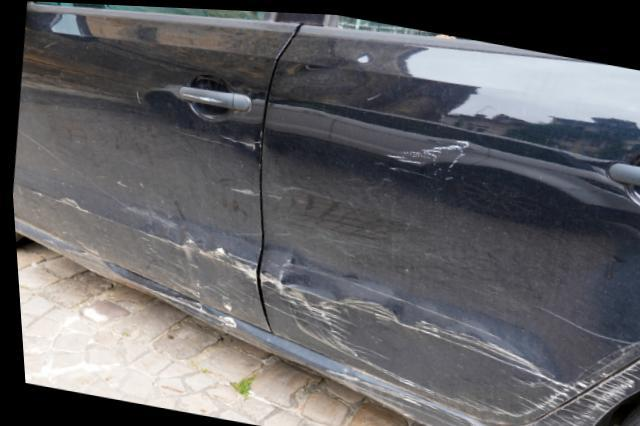dent: (268, 160, 640, 370)
scratch: (256, 270, 640, 419), (30, 192, 252, 320), (322, 367, 481, 426), (523, 348, 640, 426), (374, 135, 467, 183)
